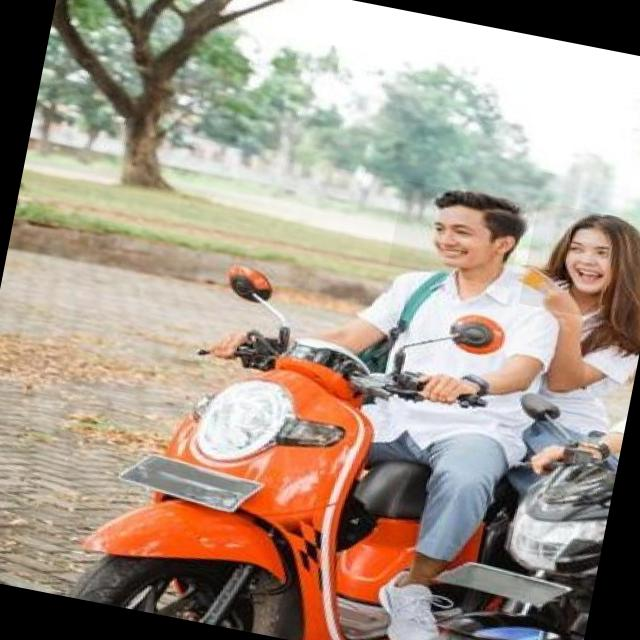without helmet: (388, 180, 526, 288), (519, 202, 629, 322)
